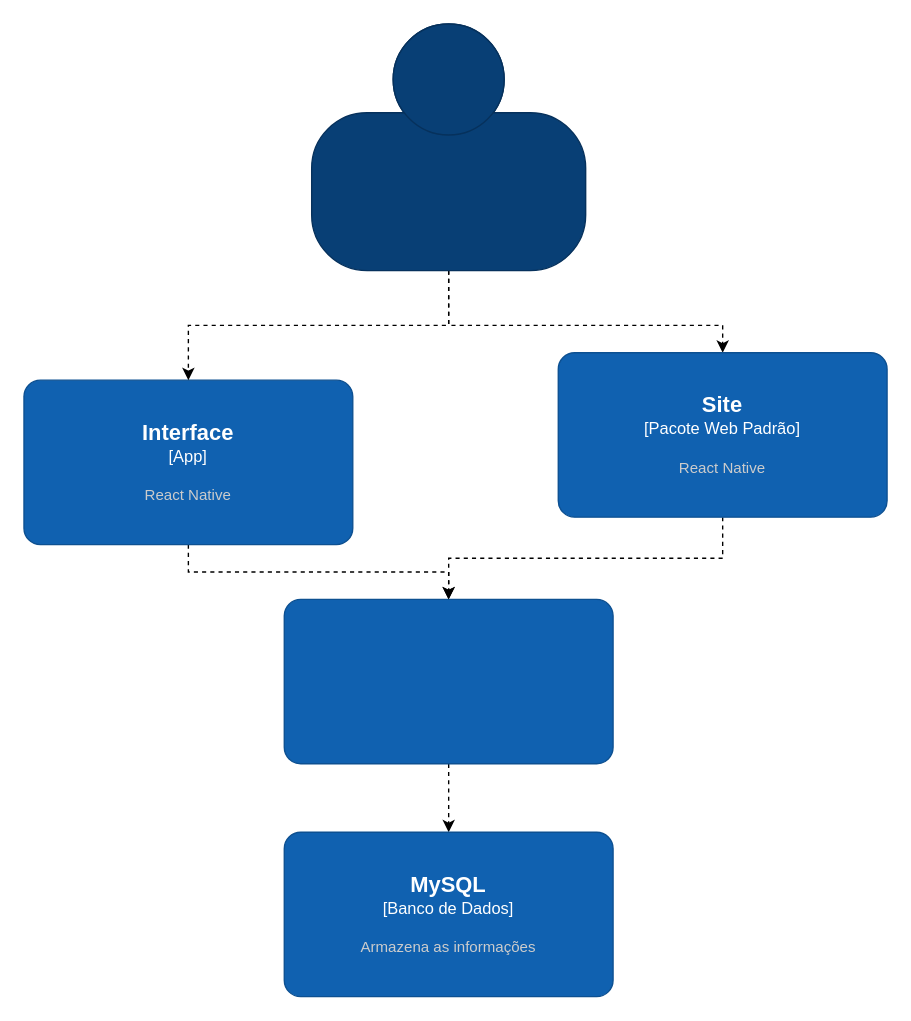
This 911x1021 diagram has some shape labels left out. Each missing label, with the box of its shape:
Cadastrar Usuário [Serviço] Cadastra o Usuário no Banco de Dados: (283, 598, 613, 764)
Visitante [Usuário] Usuário que irá se cadastrar: (310, 23, 586, 271)
